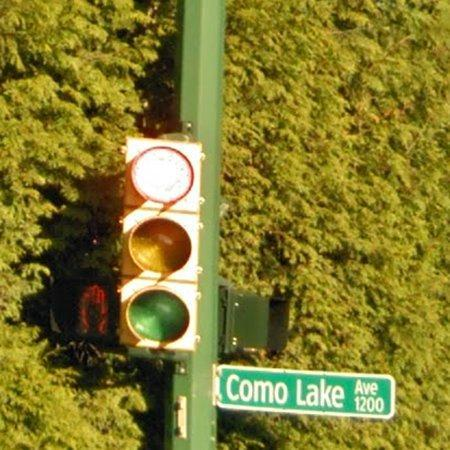traffic lights: (118, 134, 204, 354)
